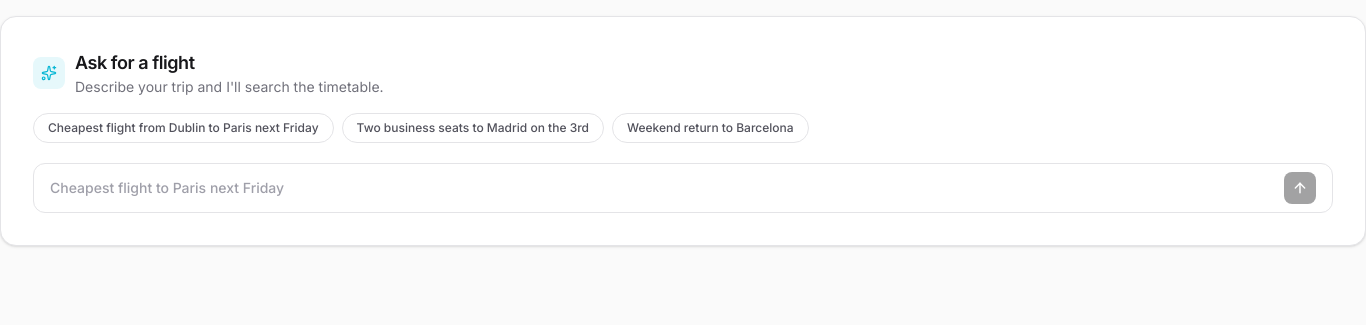
Test: AssistantChat › answers › shows a question on its own when nothing was searched
Type "flight to Paris" into the field named "Describe your trip" at (663, 188), box [50,174,1276,202]
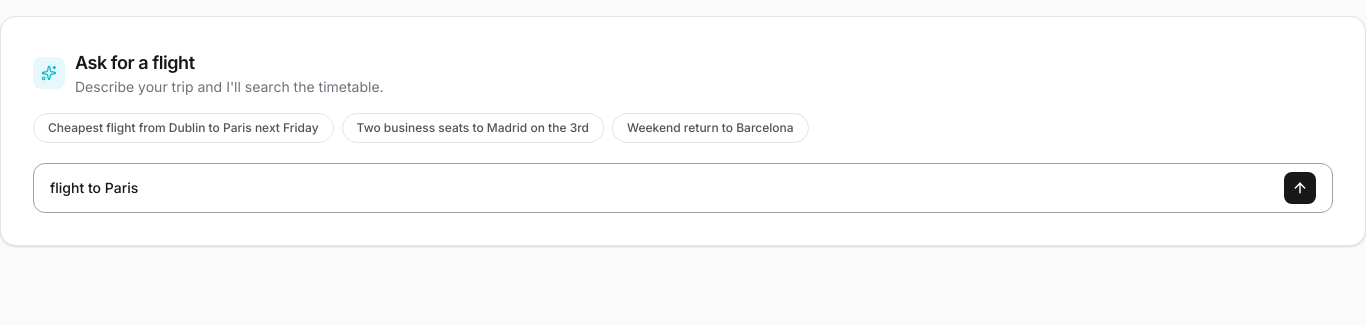
Click the button named "Send" at (1300, 188), box [1284,172,1316,204]
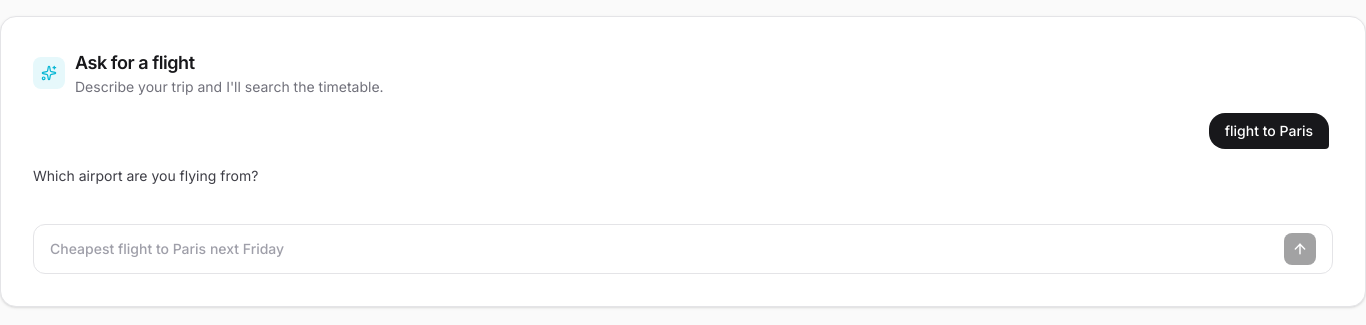
Result: the text "Which airport are you flying from?" is shown at [33,167,258,184]
